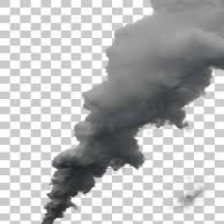smoke: (47, 4, 208, 220)
